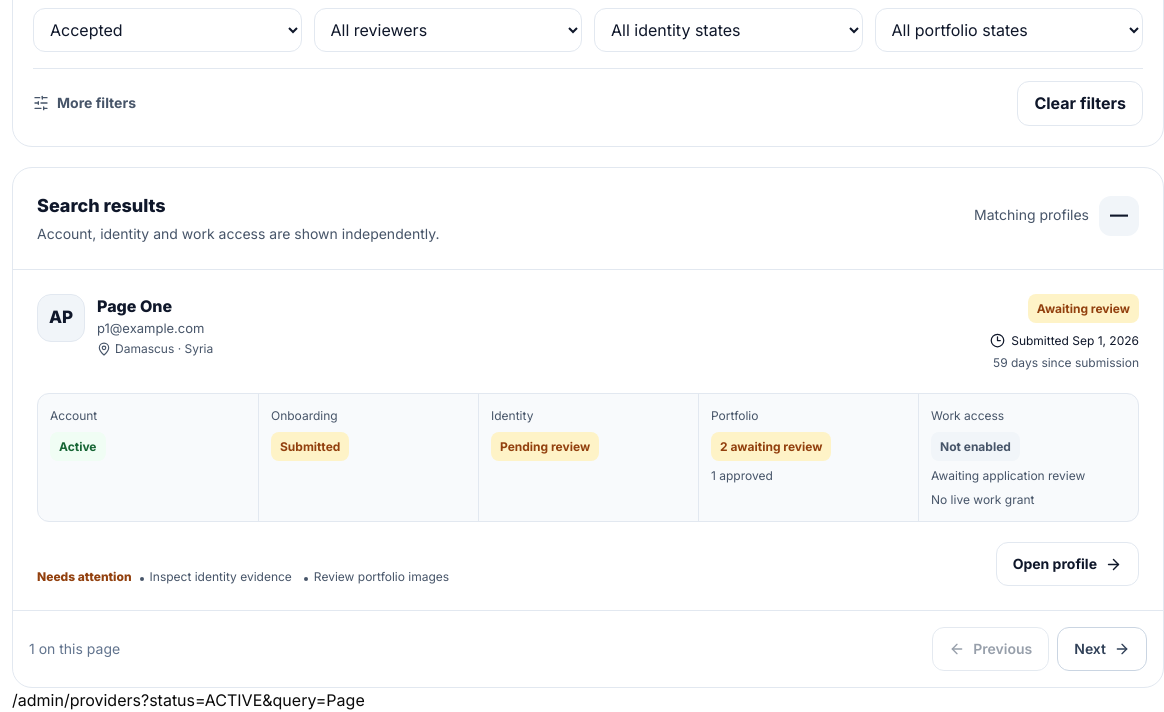
Scenario: ProviderDirectory › reaches the next page and preserves the cursor and filters in the profile return link
(page scrolled)
expect the heading "Page One" is shown: met, box [97,296,172,316]
Click the button "Next" at (1102, 649), box [1057,627,1147,671]
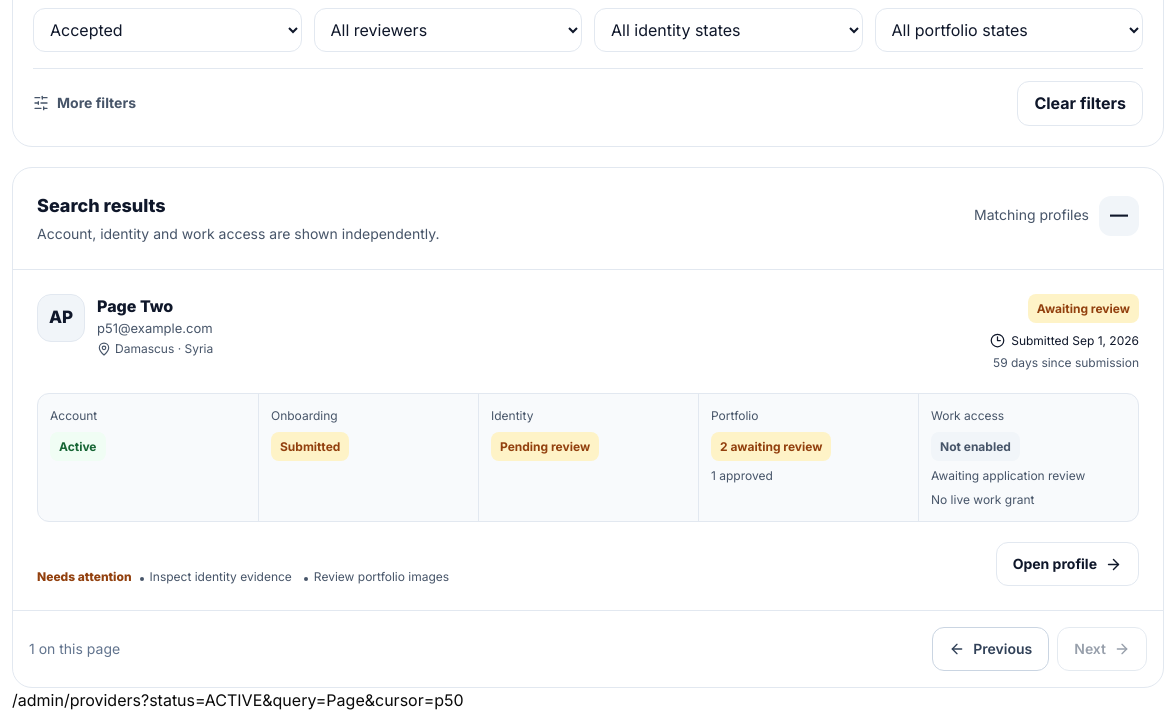
expect the button "Next" is disabled: met, box [1057,627,1147,671]
Click the button "Previous" at (991, 649), box [932,627,1049,671]
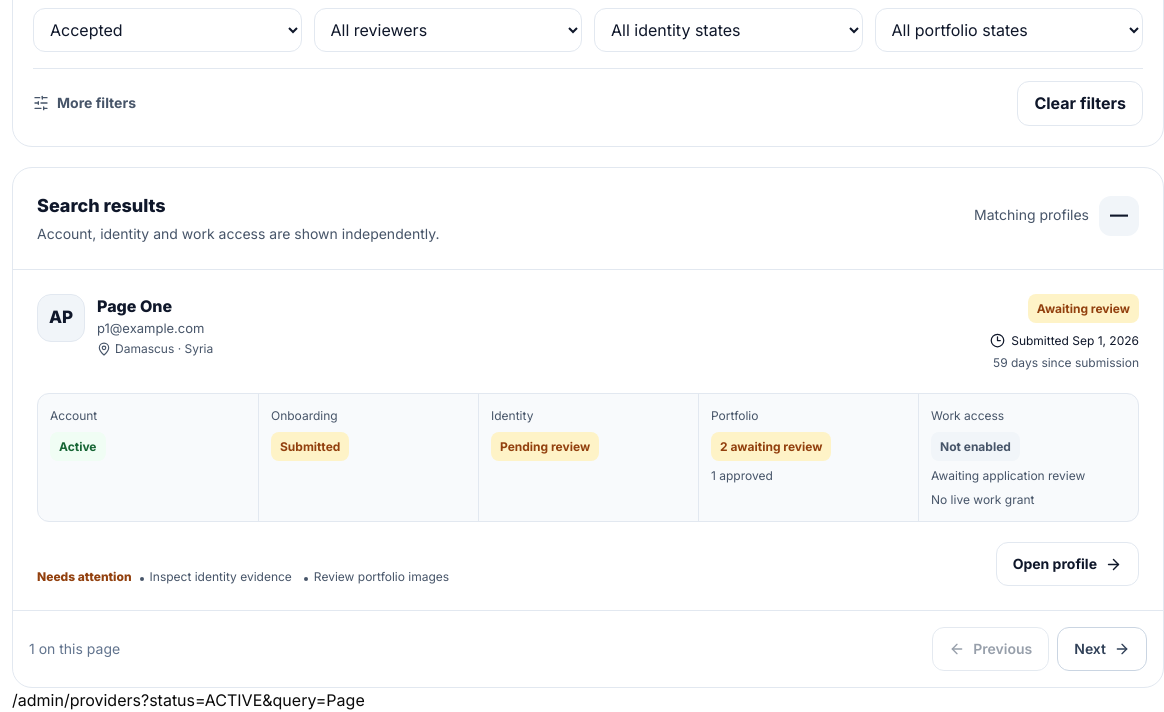
expect the heading "Page One" is shown: met, box [97,296,172,316]
expect the text with test id "directory-location" no longer shows "cursor=": met
expect the button "Previous" is disabled: met, box [932,627,1049,671]
